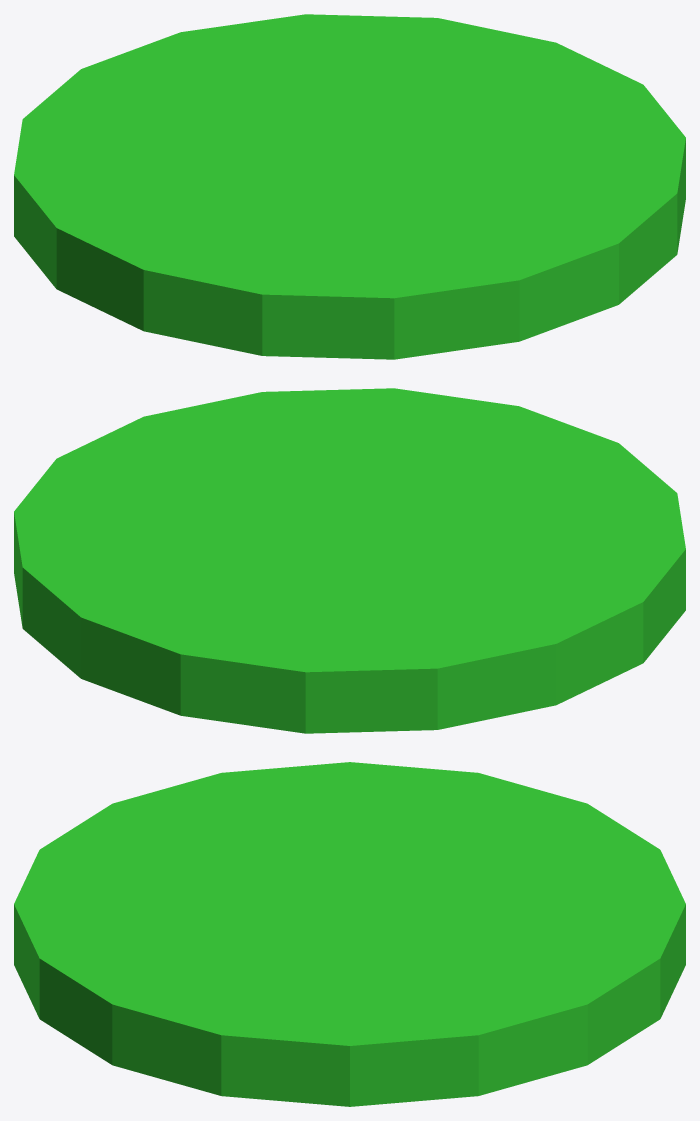
Rendered from DoorHealth100%.fbx.
The picture shows the model from 3 angles, top to bottom: view 1: azimuth 30°, elevation 25°; view 2: azimuth 150°, elevation 25°; view 3: azimuth 270°, elevation 25°; orthographic projection.
Parts seen in each view (by area): view 1: DoorHealthIndicator100%; view 2: DoorHealthIndicator100%; view 3: DoorHealthIndicator100%.
Boxes of the visible parts, bbox=[...] form: DoorHealthIndicator100%: bbox=[14, 14, 685, 359]; DoorHealthIndicator100%: bbox=[14, 388, 685, 733]; DoorHealthIndicator100%: bbox=[14, 762, 685, 1106].
Bounding box in the file's own units: 200 × 20 × 200.
